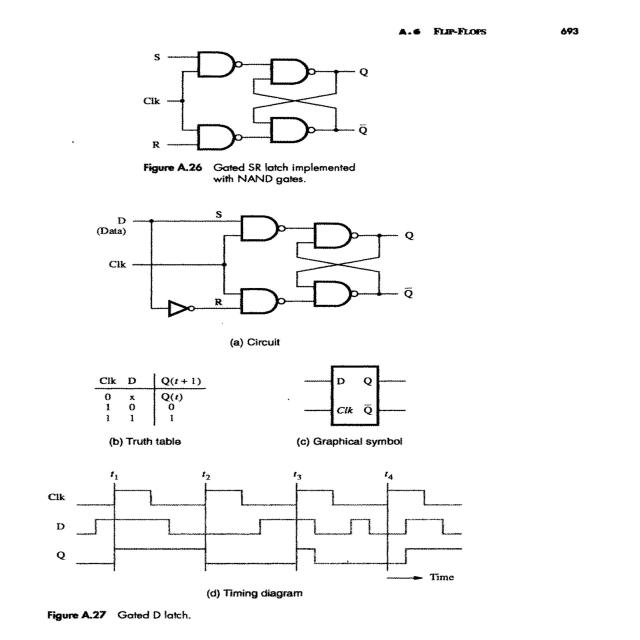diagram: (32, 198, 573, 640), (68, 41, 468, 195)
